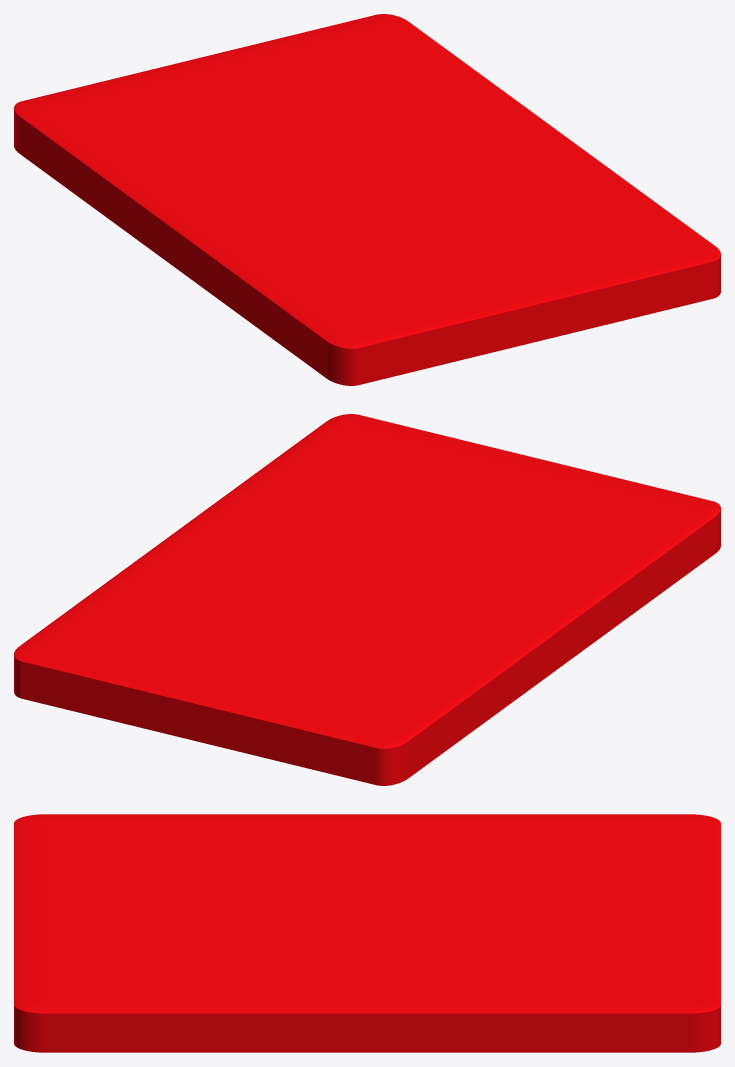
The model's file is card.gltf.
3 renders of one model, top to bottom at view 1: azimuth 30°, elevation 25°; view 2: azimuth 150°, elevation 25°; view 3: azimuth 270°, elevation 25°, orthographic. The views are drawn at different scales.
Visible parts, largest first — view 1: Cube; view 2: Cube; view 3: Cube.
Part boxes in pixels (left/top/right/bottom): Cube: left=14, top=14, right=720, bottom=385; Cube: left=14, top=414, right=720, bottom=785; Cube: left=14, top=814, right=720, bottom=1052.
Bounding box in the file's own units: 2 × 0.2 × 3.
